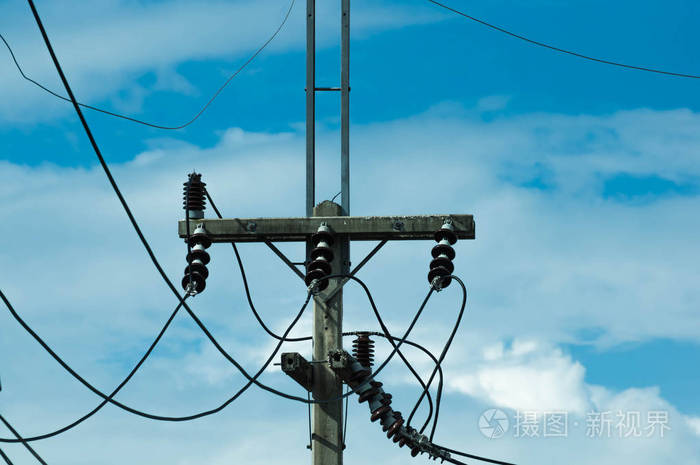insulator: (361, 390, 426, 459), (424, 229, 462, 288), (179, 233, 213, 295), (305, 231, 338, 286), (181, 179, 209, 211), (350, 339, 375, 367)
